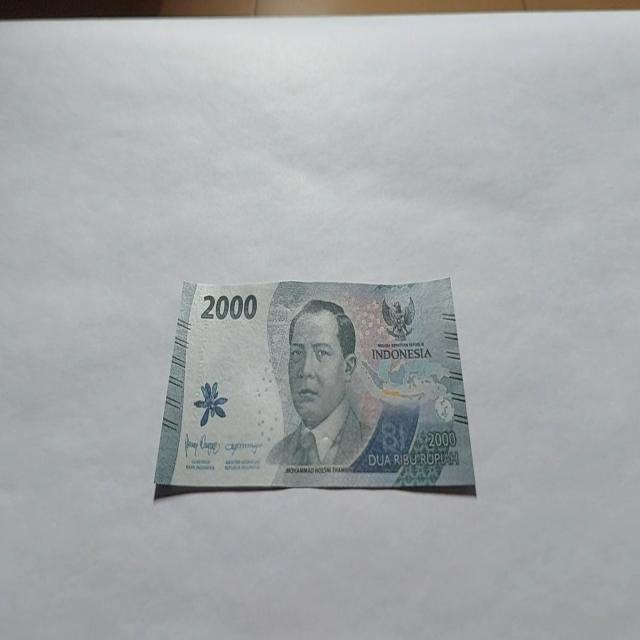dua ribu rupiah: (153, 275, 476, 497), (264, 297, 376, 473)
